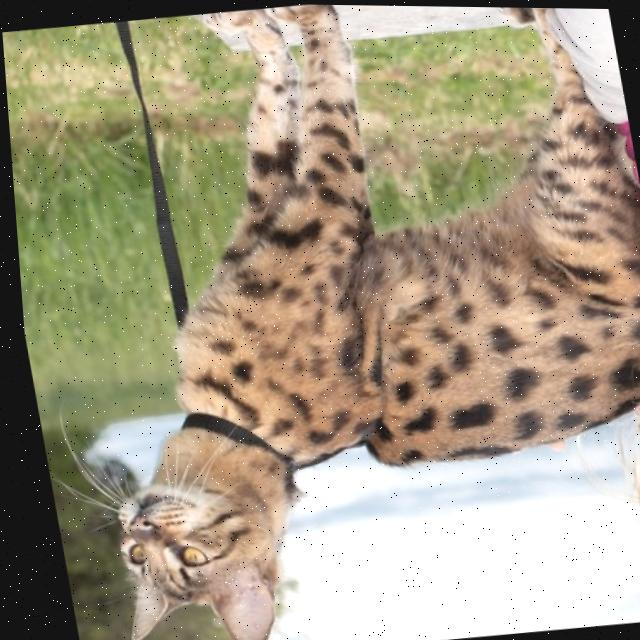Savannah: (13, 0, 640, 640)
